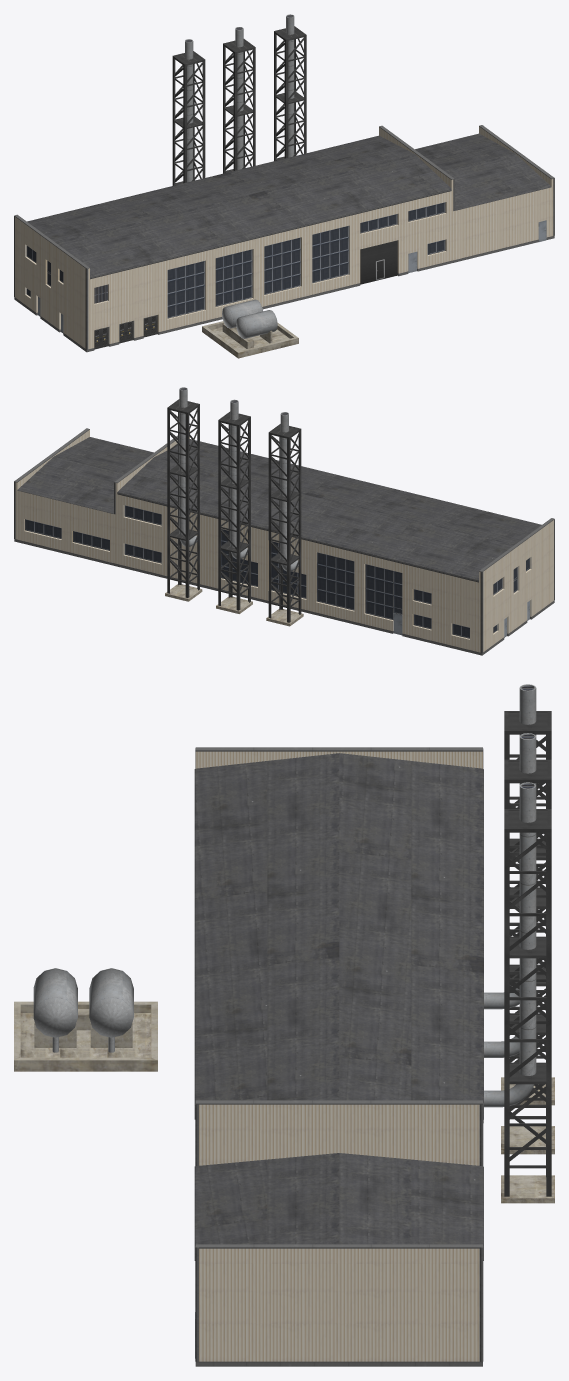
Rendered from plant-building50.glb.
The picture shows the model from 3 angles, top to bottom: view 1: azimuth 30°, elevation 25°; view 2: azimuth 150°, elevation 25°; view 3: azimuth 270°, elevation 25°; orthographic projection. The views are drawn at different scales.
Visible parts, largest first — view 1: Object8934946; view 2: Object8934946; view 3: Object8934946.
Boxes of the visible parts, left/top/right/bottom form: Object8934946: left=14, top=14, right=554, bottom=358; Object8934946: left=14, top=387, right=554, bottom=655; Object8934946: left=14, top=684, right=554, bottom=1366.
Bounding box in the file's own units: 58.31 × 24.55 × 29.41.
Materials: 1 (1 with a texture image).
